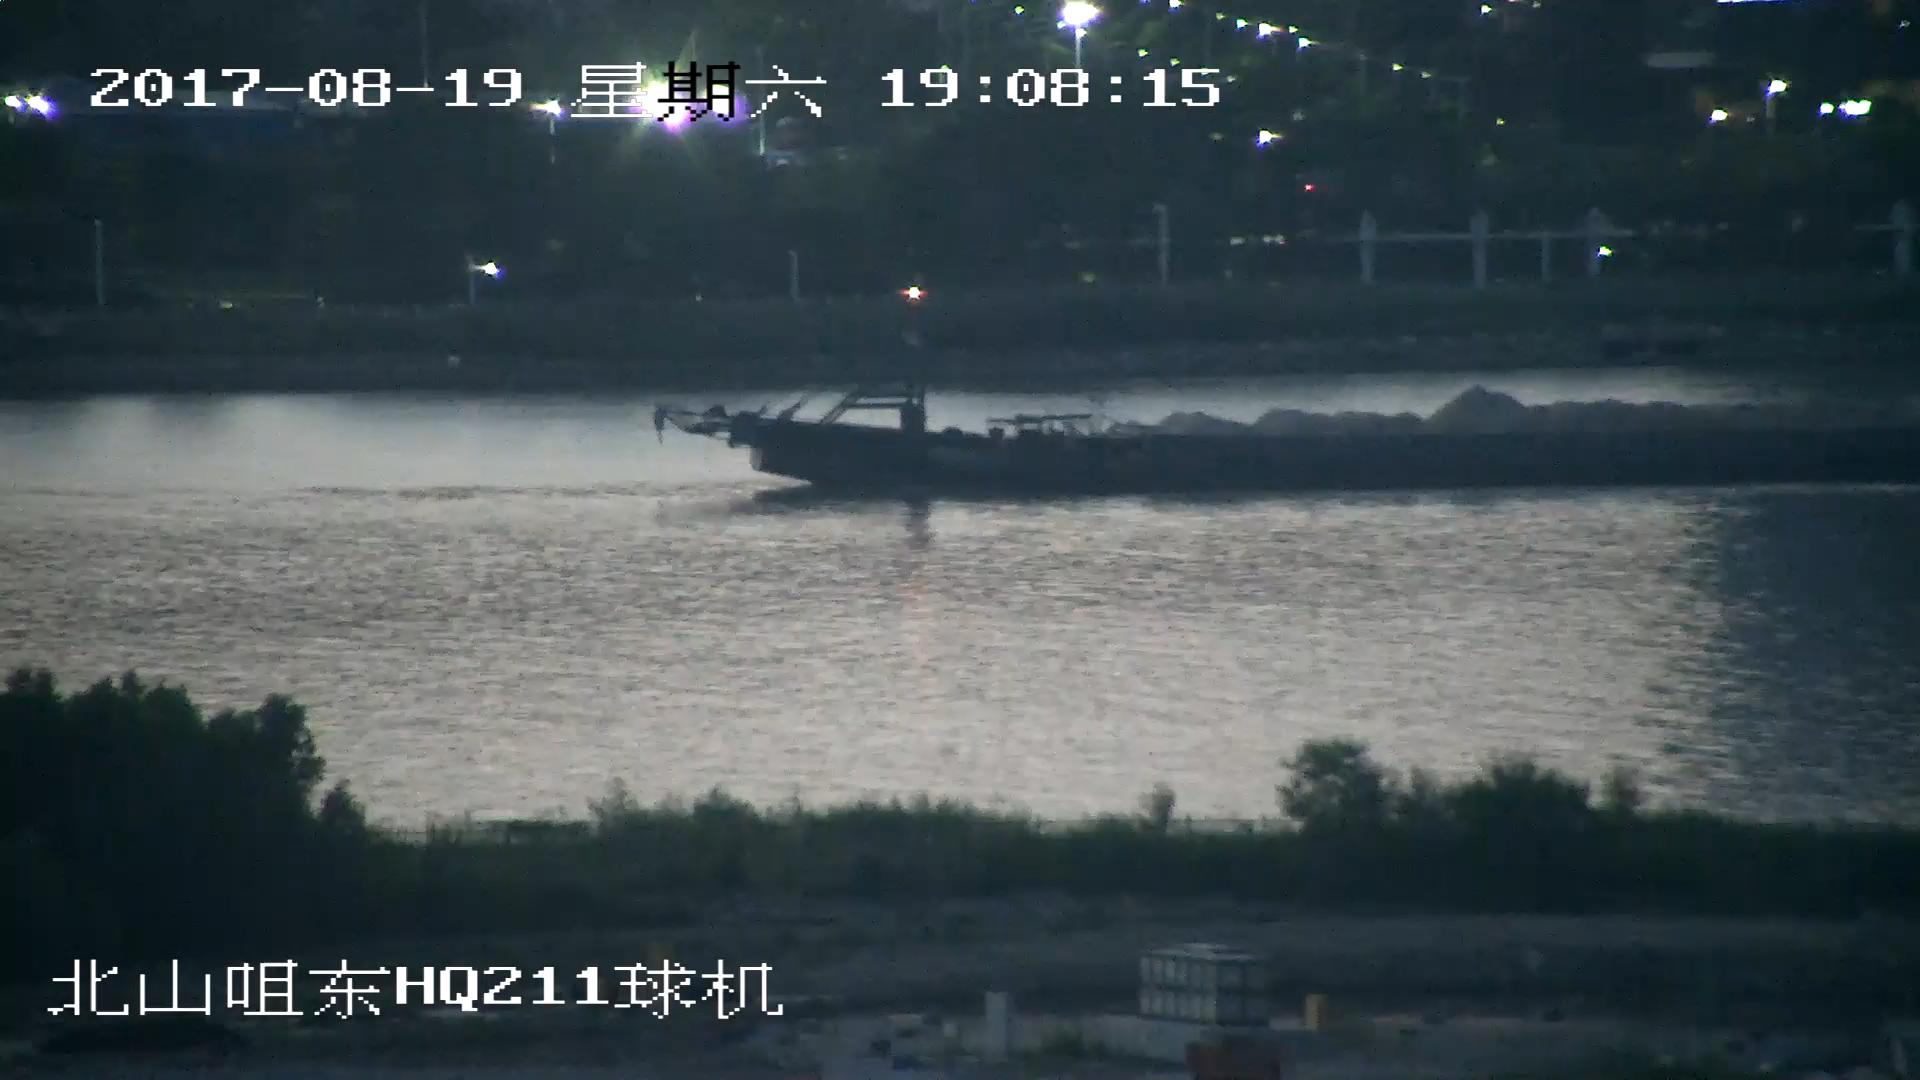ore carrier: (656, 304, 1920, 503)
